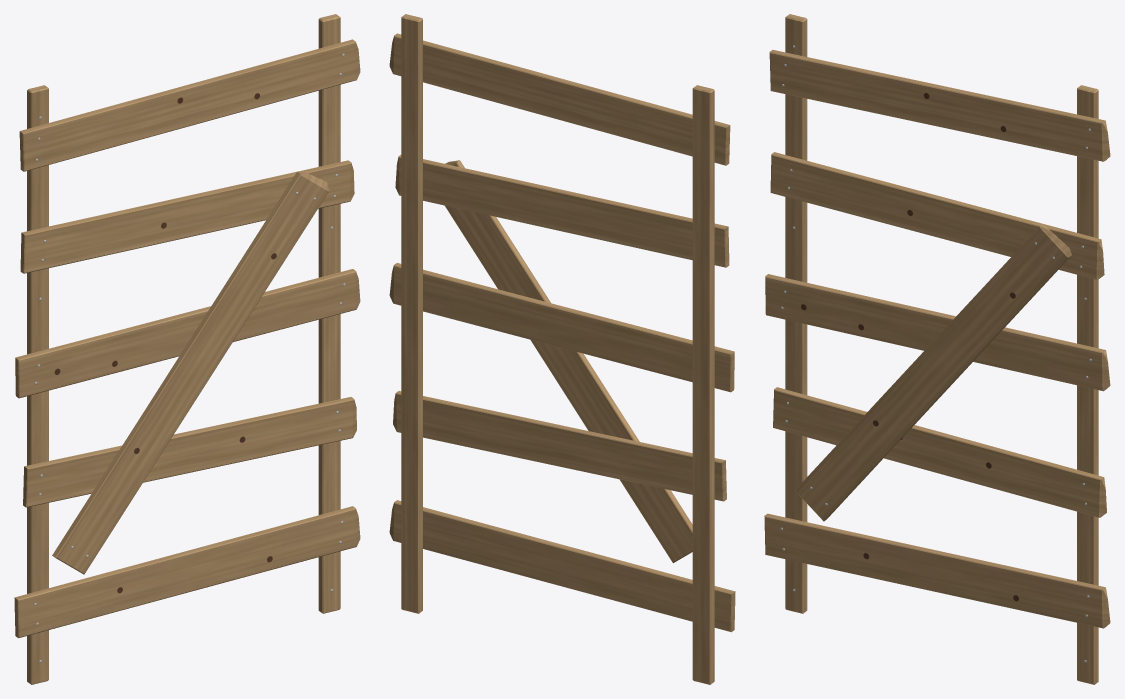
File: barricada_porta.glb
3 renders of one model, left to right at view 1: azimuth 30°, elevation 25°; view 2: azimuth 150°, elevation 25°; view 3: azimuth 330°, elevation 25°, orthographic.
Parts seen in each view (by area): view 1: barricada_porta_madeira_crua, barricada_porta_tabua_6_madeira_crua, barricada_porta_tabua_1_madeira_crua, barricada_porta_tabua_5_madeira_crua, barricada_porta_tabua_4_madeira_crua, barricada_porta_tabua_3_madeira_crua, barricada_porta_tabua_2_madeira_crua; view 2: barricada_porta_madeira_crua, barricada_porta_tabua_1_madeira_crua, barricada_porta_tabua_3_madeira_crua, barricada_porta_tabua_5_madeira_crua, barricada_porta_tabua_4_madeira_crua, barricada_porta_tabua_2_madeira_crua, barricada_porta_tabua_6_madeira_crua; view 3: barricada_porta_madeira_crua, barricada_porta_tabua_6_madeira_crua, barricada_porta_tabua_1_madeira_crua, barricada_porta_tabua_5_madeira_crua, barricada_porta_tabua_4_madeira_crua, barricada_porta_tabua_3_madeira_crua, barricada_porta_tabua_2_madeira_crua.
Part boxes in pixels (box(x1,y1,x2,y2)): barricada_porta_madeira_crua: box(27, 14, 340, 684); barricada_porta_tabua_6_madeira_crua: box(52, 171, 329, 574); barricada_porta_tabua_1_madeira_crua: box(14, 506, 360, 638); barricada_porta_tabua_5_madeira_crua: box(19, 39, 360, 171); barricada_porta_tabua_4_madeira_crua: box(20, 160, 354, 273); barricada_porta_tabua_3_madeira_crua: box(15, 269, 360, 398); barricada_porta_tabua_2_madeira_crua: box(23, 397, 356, 507); barricada_porta_madeira_crua: box(401, 14, 714, 684); barricada_porta_tabua_1_madeira_crua: box(389, 500, 735, 632); barricada_porta_tabua_3_madeira_crua: box(389, 263, 734, 392); barricada_porta_tabua_5_madeira_crua: box(389, 33, 730, 165); barricada_porta_tabua_4_madeira_crua: box(395, 155, 729, 267); barricada_porta_tabua_2_madeira_crua: box(393, 391, 726, 501); barricada_porta_tabua_6_madeira_crua: box(445, 160, 692, 562); barricada_porta_madeira_crua: box(785, 14, 1098, 684); barricada_porta_tabua_6_madeira_crua: box(795, 224, 1071, 521); barricada_porta_tabua_1_madeira_crua: box(764, 513, 1110, 628); barricada_porta_tabua_5_madeira_crua: box(769, 50, 1110, 161); barricada_porta_tabua_4_madeira_crua: box(770, 152, 1104, 279); barricada_porta_tabua_3_madeira_crua: box(765, 274, 1110, 391); barricada_porta_tabua_2_madeira_crua: box(773, 387, 1106, 517).
Size of the model in its own units: 1.3 by 2.14 by 0.08.
Materials: 3 (2 with a texture image).
